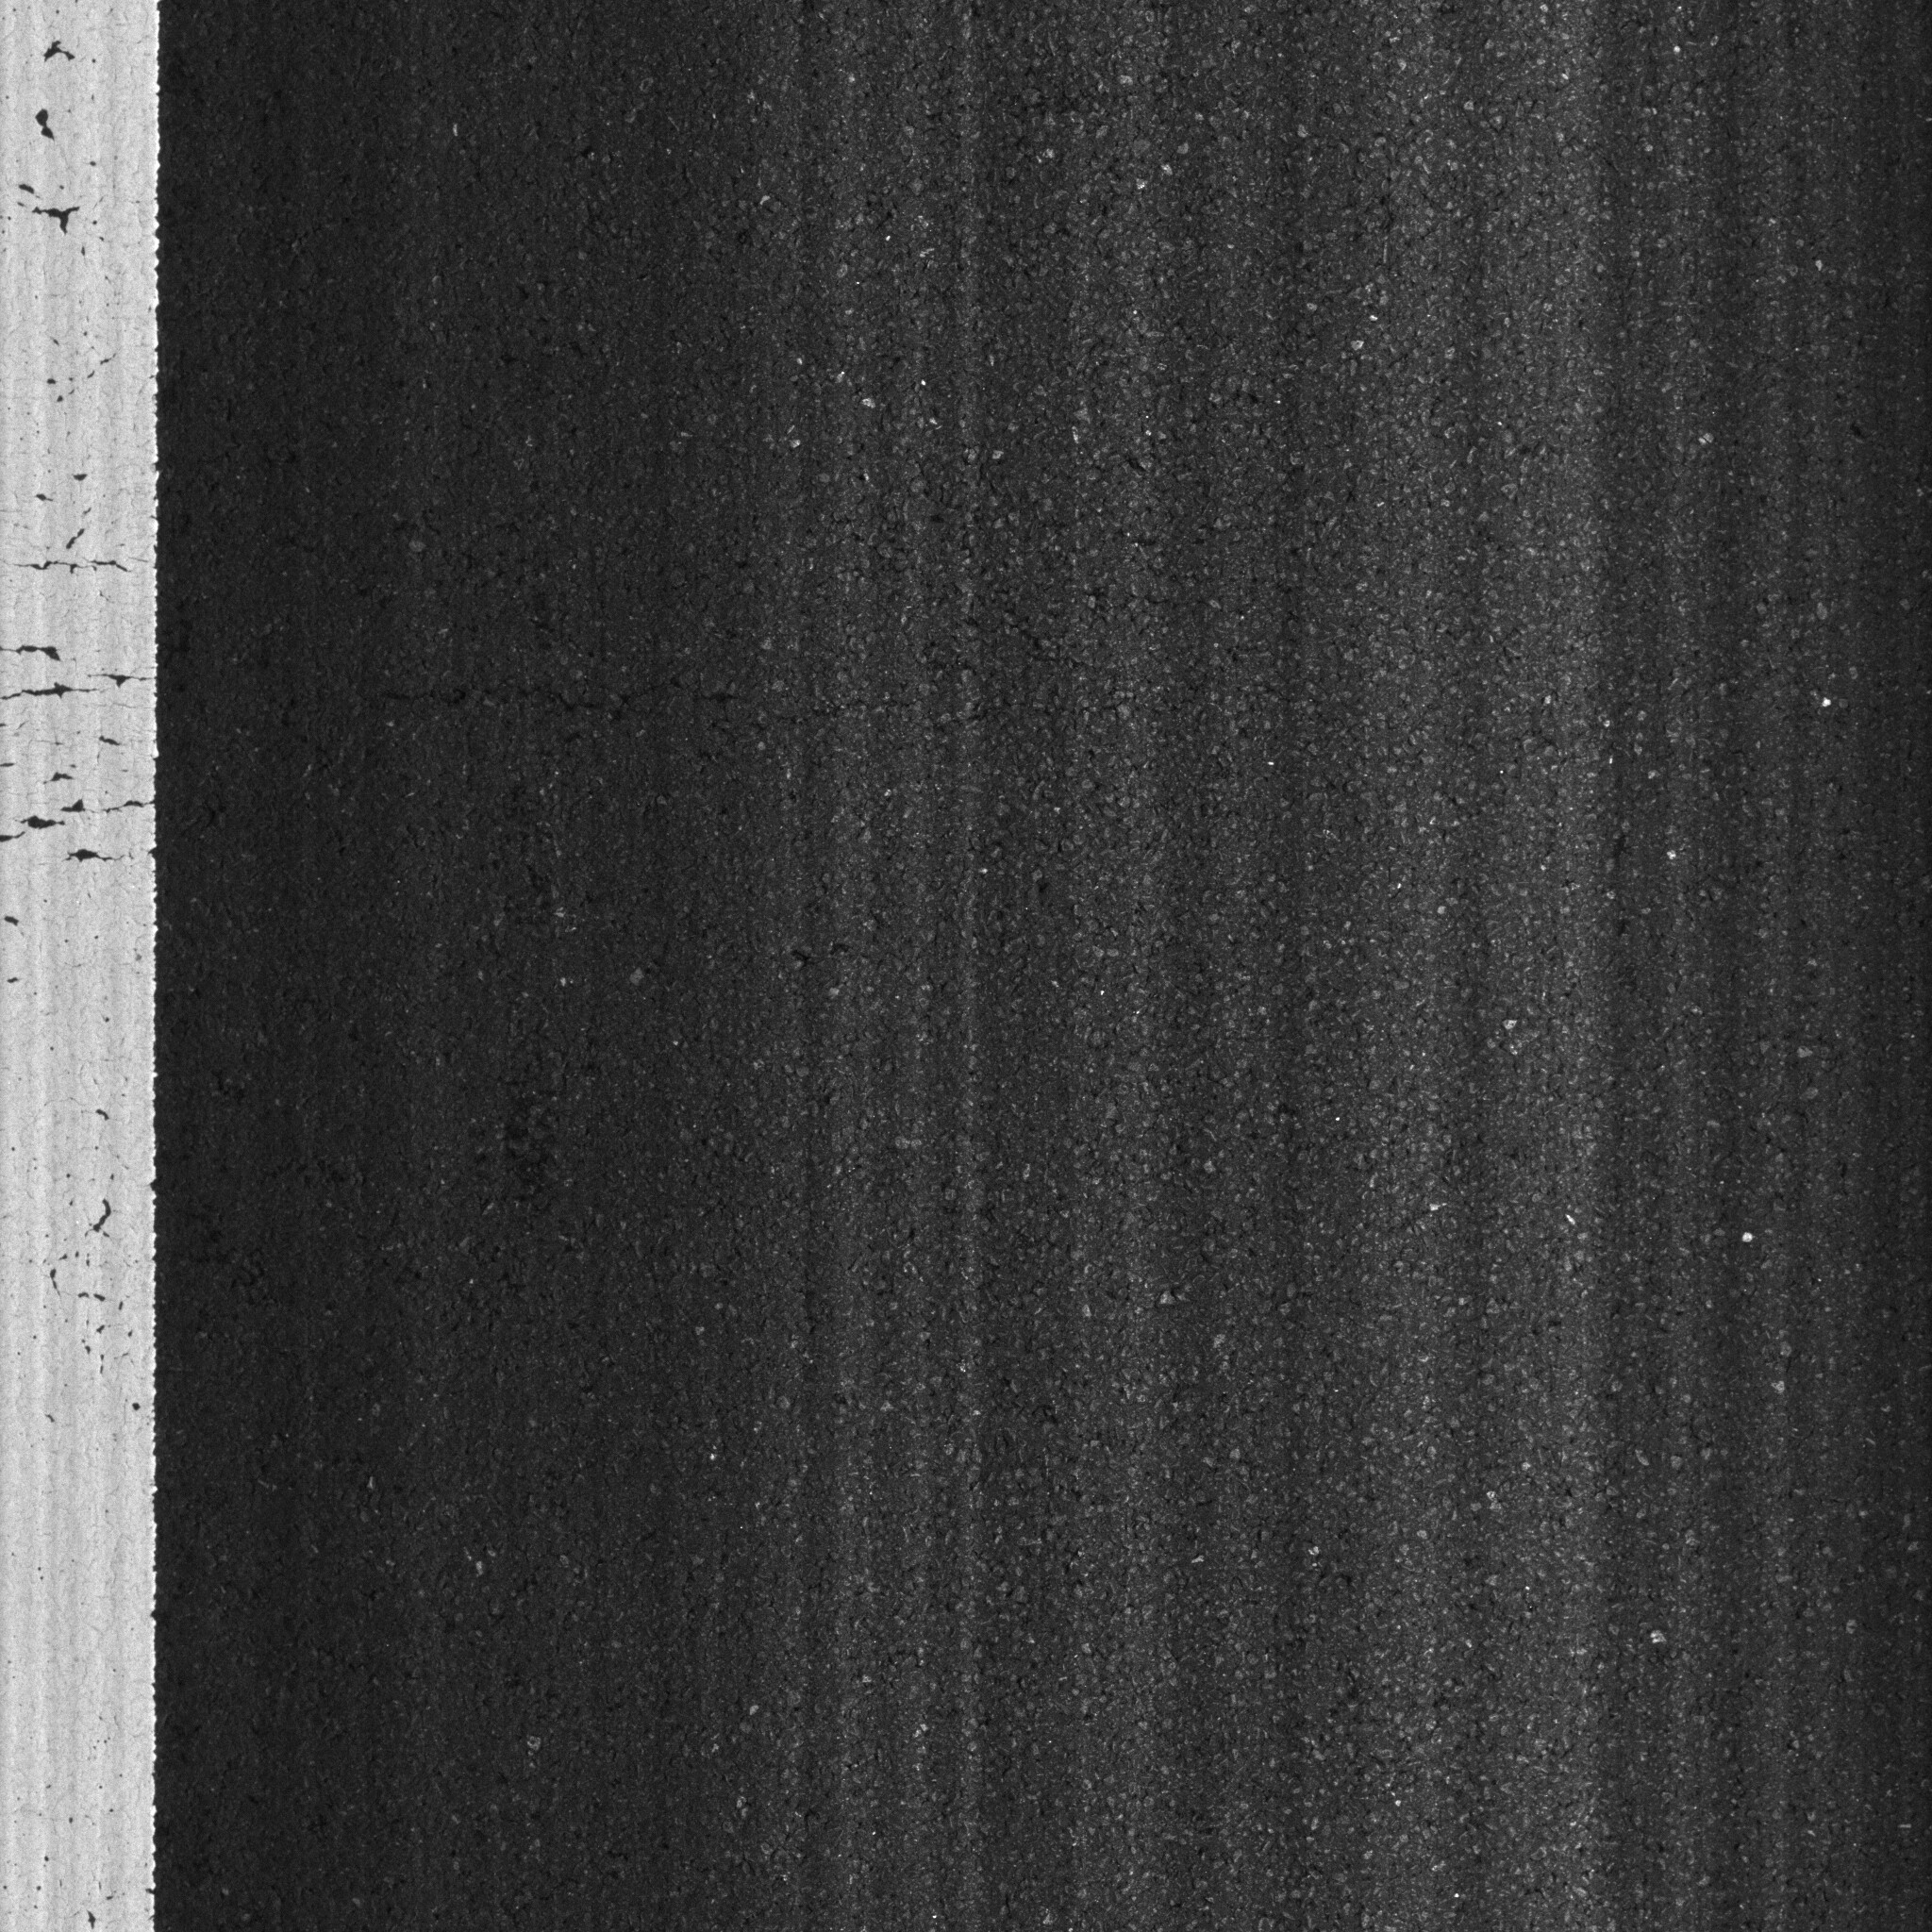transeverse: (327, 651, 851, 770)
